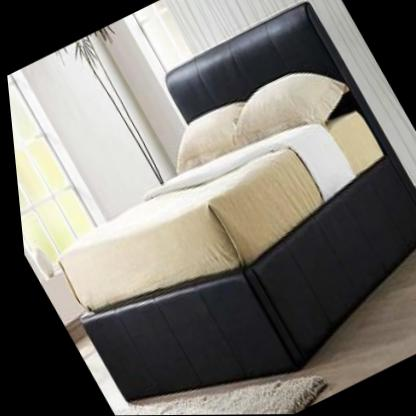Bed: (0, 0, 416, 416)
Carpet: (103, 375, 320, 416)
